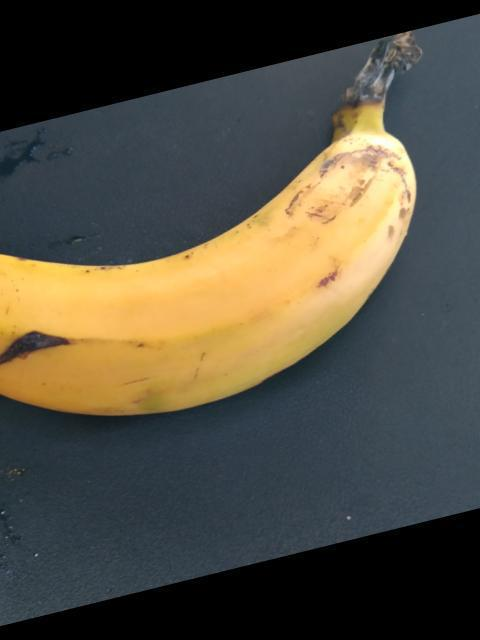ripe: (0, 122, 427, 469)
